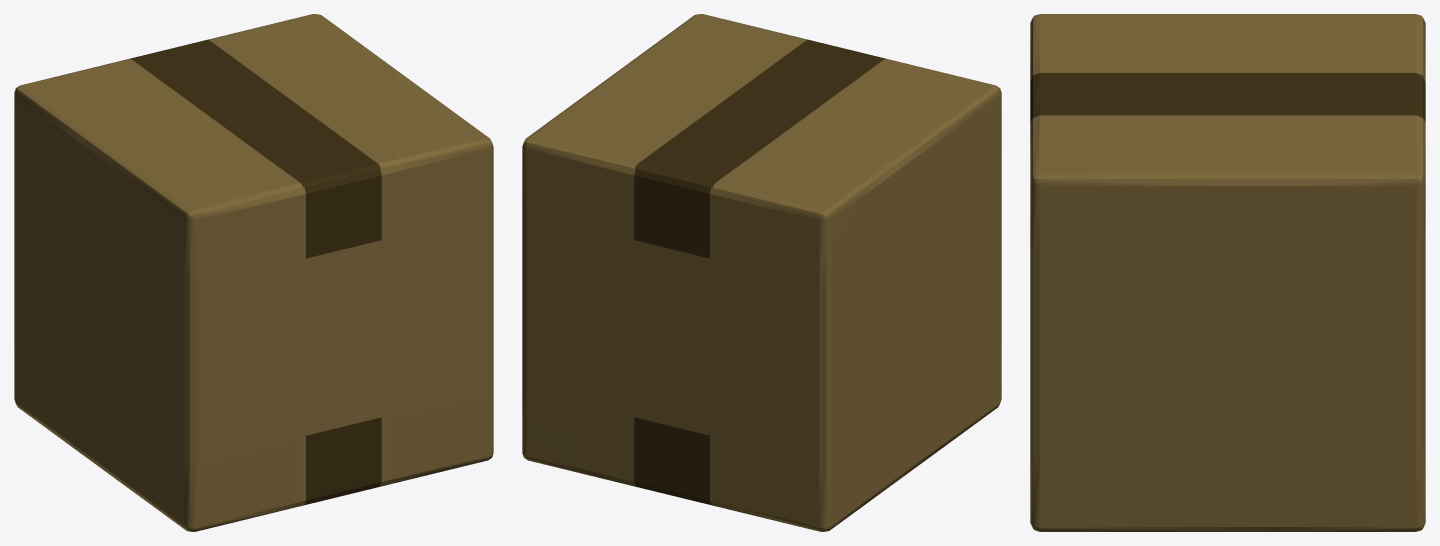
3 renders of one model, left to right at view 1: azimuth 30°, elevation 25°; view 2: azimuth 150°, elevation 25°; view 3: azimuth 270°, elevation 25°, orthographic. The views are drawn at different scales.
Parts seen in each view (by area): view 1: BoxBody, LidLeft, LidRight; view 2: BoxBody, LidLeft, LidRight; view 3: BoxBody, LidRight, LidLeft.
Boxes of the visible parts, x1,y1,x2,y2 form: BoxBody: (14,88,493,531); LidLeft: (16,49,341,215); LidRight: (168,14,491,177); BoxBody: (522,88,1001,531); LidLeft: (674,49,999,215); LidRight: (524,14,847,177); BoxBody: (1030,18,1425,531); LidRight: (1033,93,1422,179); LidLeft: (1033,14,1422,96).
Bounding box in the file's own units: 0.1995 × 0.1995 × 0.1995.
